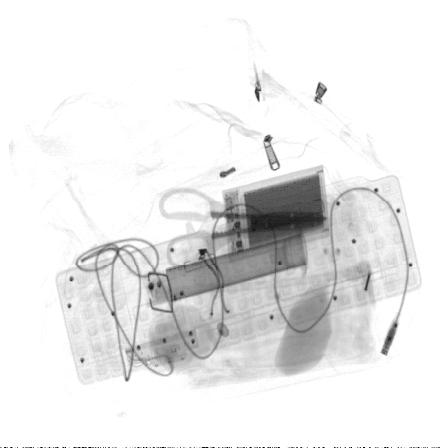Powerbank: (222, 162, 331, 263)
Scissors: (158, 187, 332, 274)
